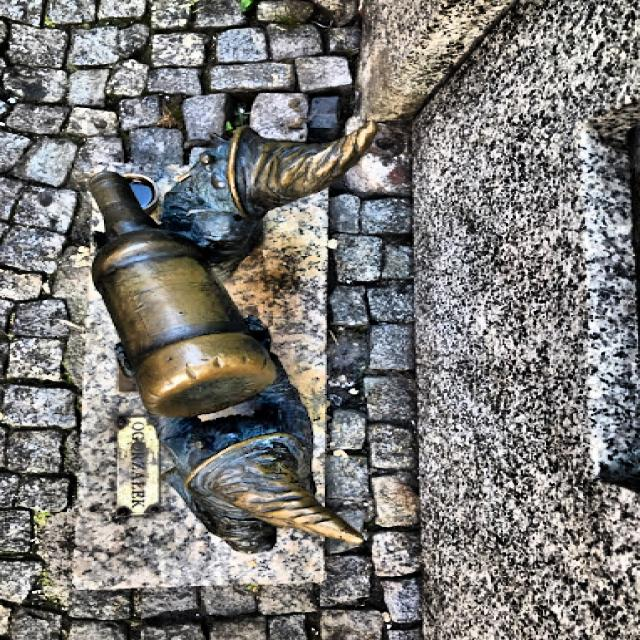Ogorzalek_i_Opilek: (90, 121, 377, 552)
